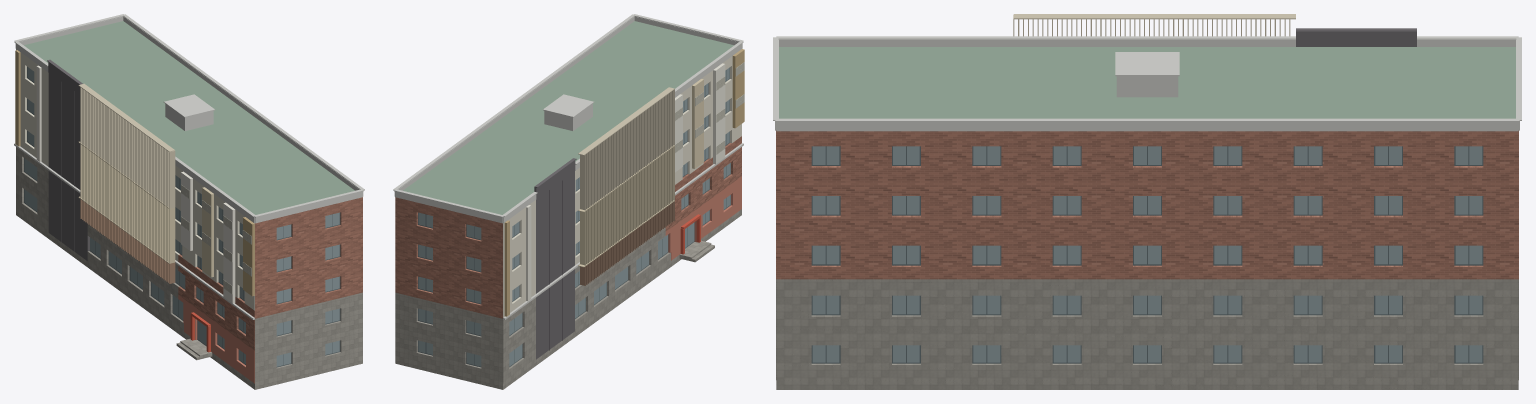
3 views of the same model, side by side, from view 1: azimuth 30°, elevation 25°; view 2: azimuth 150°, elevation 25°; view 3: azimuth 270°, elevation 25° (orthographic). The views are drawn at different scales.
Visible parts, largest first — view 1: finwing__roof, finwing__stone, finwing__brick, finwing__cap, finwing__panelwarm, finwing__finlight, finwing__towergray, finwing__glass, finwing__cream, finwing__panelivory, finwing__finbrown, finwing__terracotta (+5 smaller); view 2: finwing__roof, finwing__stone, finwing__brick, finwing__cap, finwing__towergray, finwing__panelwarm, finwing__finlight, finwing__glass, finwing__cream, finwing__panelivory, finwing__finbrown, finwing__terracotta (+5 smaller); view 3: finwing__brick, finwing__stone, finwing__roof, finwing__glass, finwing__cap, finwing__frame, finwing__finlight, finwing__towergray.
Part boxes in pixels (x1=…): finwing__roof: x1=24, y1=21, x2=354, y2=214; finwing__stone: x1=16, y1=147, x2=362, y2=389; finwing__brick: x1=178, y1=197, x2=362, y2=350; finwing__cap: x1=14, y1=14, x2=364, y2=319; finwing__panelwarm: x1=78, y1=141, x2=213, y2=277; finwing__finlight: x1=78, y1=83, x2=175, y2=208; finwing__towergray: x1=47, y1=59, x2=89, y2=260; finwing__glass: x1=24, y1=67, x2=339, y2=366; finwing__cream: x1=16, y1=49, x2=254, y2=310; finwing__panelivory: x1=36, y1=65, x2=235, y2=303; finwing__finbrown: x1=80, y1=199, x2=175, y2=283; finwing__terracotta: x1=178, y1=295, x2=254, y2=383; finwing__roof: x1=403, y1=21, x2=733, y2=222; finwing__stone: x1=395, y1=209, x2=741, y2=389; finwing__brick: x1=395, y1=136, x2=741, y2=318; finwing__cap: x1=393, y1=14, x2=743, y2=319; finwing__towergray: x1=534, y1=158, x2=576, y2=359; finwing__panelwarm: x1=578, y1=79, x2=703, y2=267; finwing__finlight: x1=578, y1=87, x2=674, y2=210; finwing__glass: x1=418, y1=67, x2=730, y2=366; finwing__cream: x1=503, y1=56, x2=741, y2=317; finwing__panelivory: x1=526, y1=63, x2=725, y2=301; finwing__finbrown: x1=580, y1=201, x2=674, y2=285; finwing__terracotta: x1=665, y1=176, x2=741, y2=260; finwing__brick: x1=776, y1=130, x2=1518, y2=279; finwing__stone: x1=776, y1=279, x2=1518, y2=389; finwing__roof: x1=779, y1=47, x2=1515, y2=118; finwing__glass: x1=812, y1=146, x2=1482, y2=362; finwing__cap: x1=773, y1=36, x2=1521, y2=131; finwing__frame: x1=811, y1=146, x2=1483, y2=363; finwing__finlight: x1=1013, y1=14, x2=1295, y2=36; finwing__towergray: x1=1296, y1=28, x2=1416, y2=46.
Bounding box in the file's own units: 13.95 × 19.62 × 46.39.
Materials: 18 (3 with a texture image).
